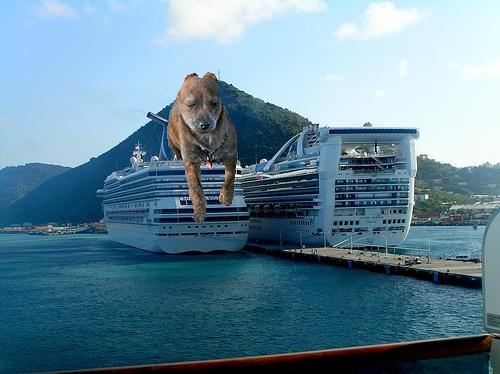tampered: (167, 73, 237, 223)
